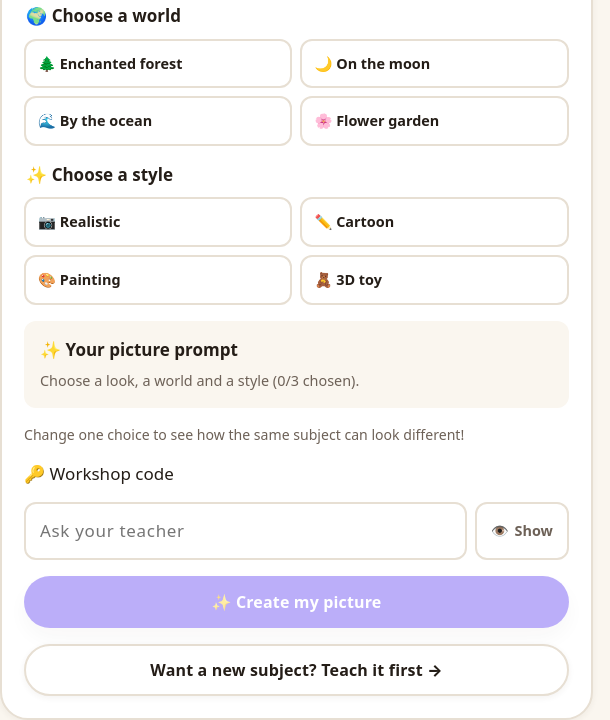
it: Let AI create › the workshop code field › hides the code by default and reveals it on request, without changing it
The image size is (610, 720).
(page scrolled)
Type "FONTYS-A7K2M9PQ" into the password field labelled "🔑 Workshop code" at point(245, 531), box [24, 502, 467, 560]
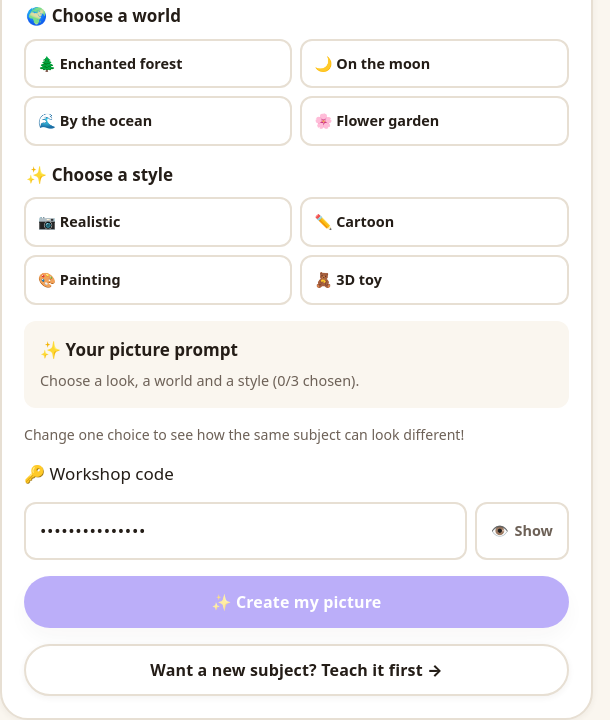
Click the button with aria-label "Show the workshop code" at point(522, 531), box [475, 502, 569, 560]
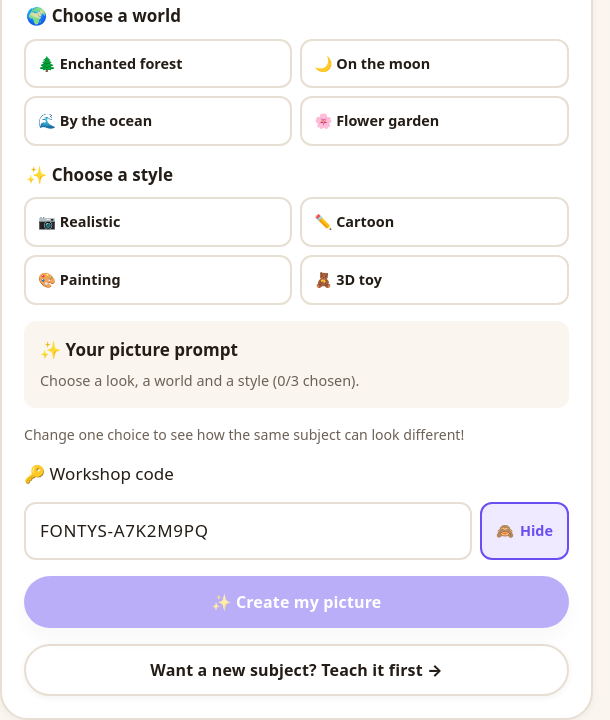
Now the field labelled "🔑 Workshop code" shows its text, box [24, 502, 472, 560]
Click the button with aria-label "Hide the workshop code" at point(524, 531), box [480, 502, 569, 560]
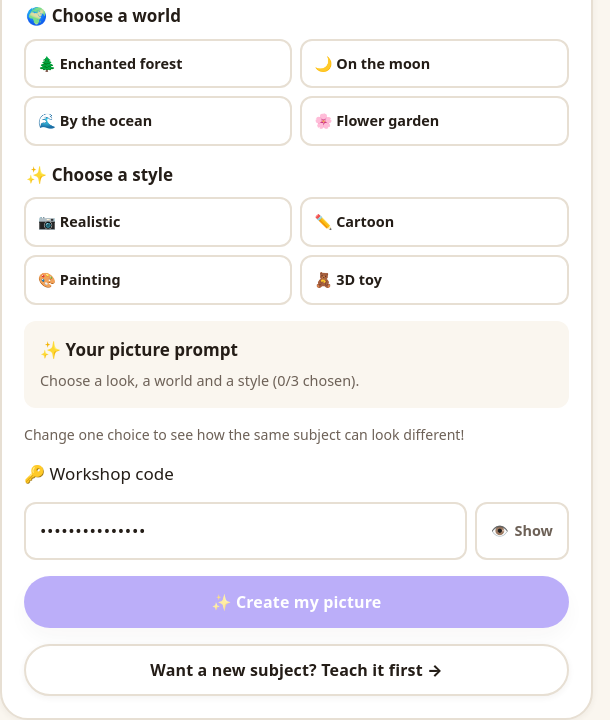
Now the password field labelled "🔑 Workshop code" hides its text, box [24, 502, 467, 560]
Now the button with aria-label "Show the workshop code" is shown, box [475, 502, 569, 560]
